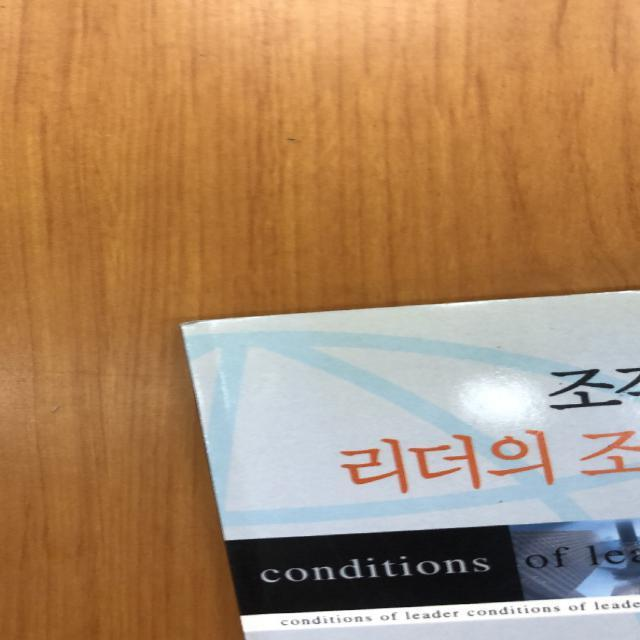Wornout: (174, 314, 259, 338), (583, 286, 639, 304)
